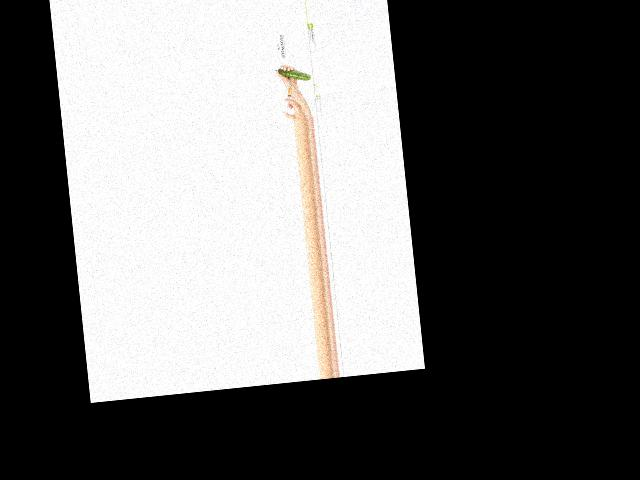cucumber: (278, 65, 311, 83)
